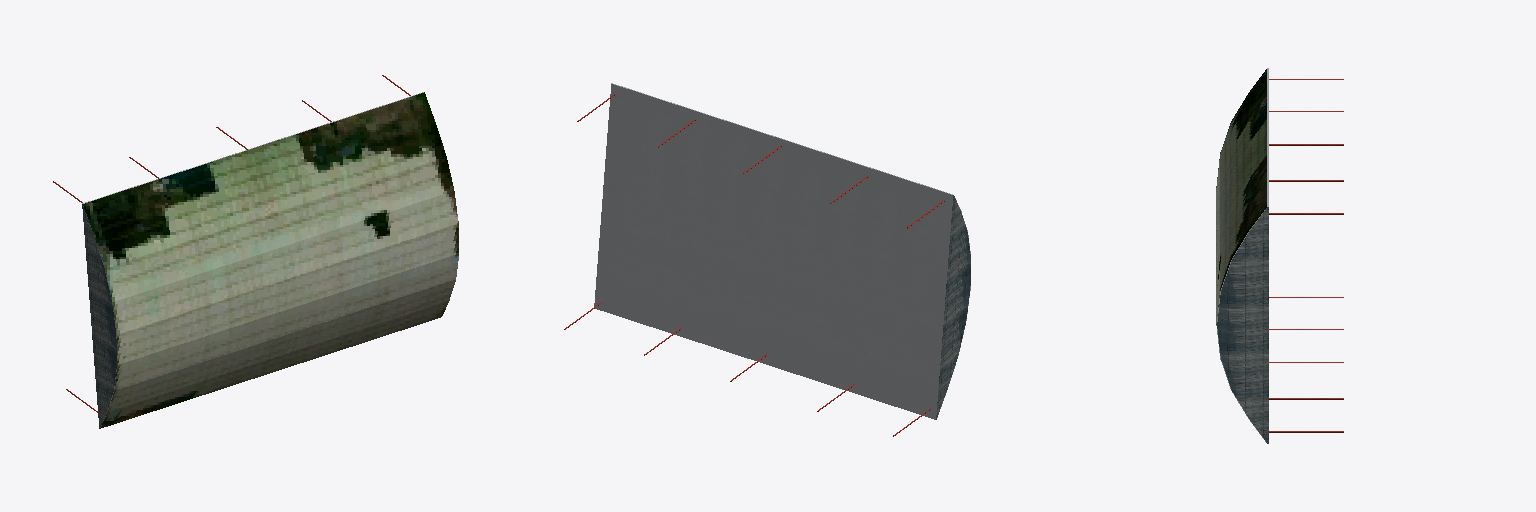
The picture shows the model from 3 angles: view 1: azimuth 30°, elevation 25°; view 2: azimuth 150°, elevation 25°; view 3: azimuth 270°, elevation 25°; orthographic projection.
Visible parts, largest first — view 1: Group_MatrixTransform_i95016_Geometry_1, Group_MatrixTransform_i95016_Geometry_0; view 2: Group_MatrixTransform_i95016_Geometry_3, Group_MatrixTransform_i95016_Geometry_0, Group_MatrixTransform_i95016_Geometry_2; view 3: Group_MatrixTransform_i95016_Geometry_0, Group_MatrixTransform_i95016_Geometry_1, Group_MatrixTransform_i95016_Geometry_2.
Boxes of the visible parts, <box> form: Group_MatrixTransform_i95016_Geometry_1: <box>83,92,458,428</box>; Group_MatrixTransform_i95016_Geometry_0: <box>82,204,116,428</box>; Group_MatrixTransform_i95016_Geometry_3: <box>594,83,970,419</box>; Group_MatrixTransform_i95016_Geometry_0: <box>603,185,970,419</box>; Group_MatrixTransform_i95016_Geometry_2: <box>564,94,944,436</box>; Group_MatrixTransform_i95016_Geometry_0: <box>1217,207,1268,443</box>; Group_MatrixTransform_i95016_Geometry_1: <box>1216,69,1266,324</box>; Group_MatrixTransform_i95016_Geometry_2: <box>1269,79,1343,432</box>.
Bounding box in the file's own units: 30.31 × 20.74 × 9.29.
Materials: 4 (4 with a texture image).